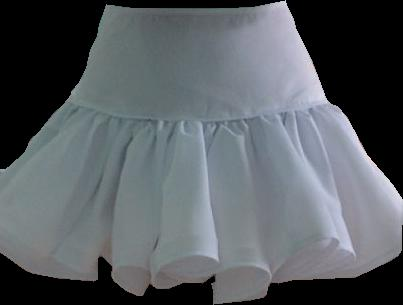Hemline: (0, 166, 400, 303)
Waistline: (66, 98, 329, 122), (104, 0, 287, 10)
